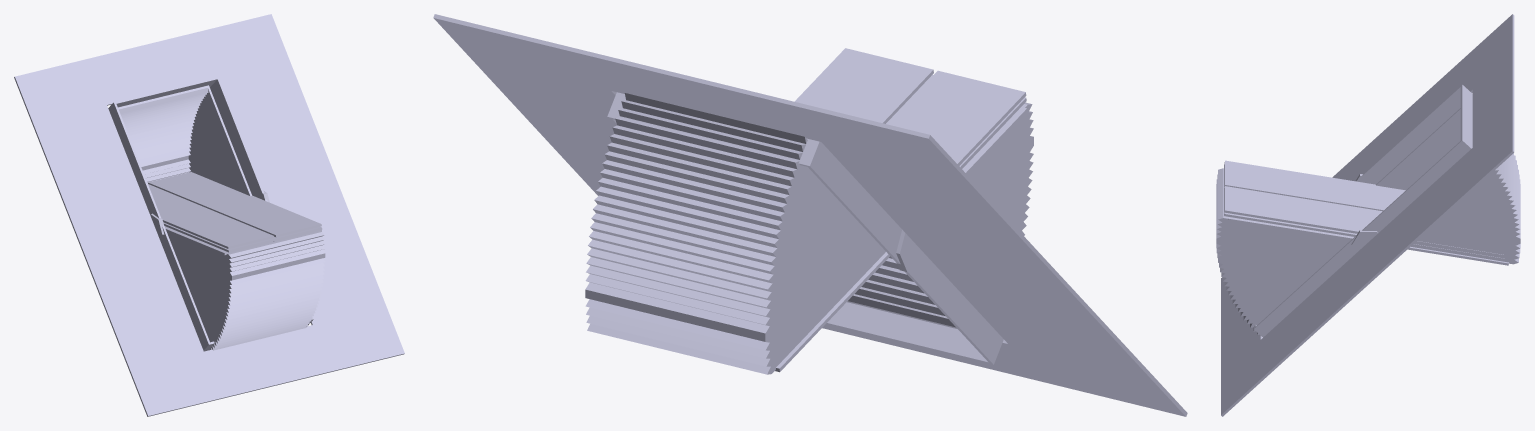
The model's file is RoofDock_-10deg.glb.
3 renders of one model, left to right at view 1: azimuth 30°, elevation 25°; view 2: azimuth 150°, elevation 25°; view 3: azimuth 270°, elevation 25°, orthographic. The views are drawn at different scales.
Visible parts, largest first — view 1: copy_Body021, copy_Body023, copy_Body022, copy_LinkGroup004, copy_Body, copy_LinkGroup003; view 2: copy_Body022, copy_Body021, copy_LinkGroup004, copy_Body, copy_Body023, copy_LinkGroup003, copy_Body002; view 3: copy_Body021, copy_LinkGroup004, copy_Body023, copy_Body022, copy_Body, copy_LinkGroup003, copy_Body001.
Boxes of the visible parts, <box> form: copy_Body021: <box>14,14,404,416</box>; copy_Body023: <box>166,231,325,350</box>; copy_Body022: <box>118,85,251,195</box>; copy_LinkGroup004: <box>148,172,322,252</box>; copy_Body: <box>108,77,313,351</box>; copy_LinkGroup003: <box>164,226,321,255</box>; copy_Body022: <box>585,93,885,374</box>; copy_Body021: <box>433,14,1187,416</box>; copy_LinkGroup004: <box>794,48,1026,168</box>; copy_Body: <box>607,92,1003,364</box>; copy_Body023: <box>847,102,1033,328</box>; copy_LinkGroup003: <box>775,107,1027,372</box>; copy_Body002: <box>896,229,924,271</box>; copy_Body021: <box>1221,14,1514,416</box>; copy_LinkGroup004: <box>1224,160,1504,260</box>; copy_Body023: <box>1216,168,1350,335</box>; copy_Body022: <box>1376,108,1520,264</box>; copy_Body: <box>1254,84,1472,337</box>; copy_LinkGroup003: <box>1228,217,1508,265</box>; copy_Body001: <box>1351,230,1377,252</box>.
Size of the model in its own units: 1.68 by 1.52 by 1.57.
